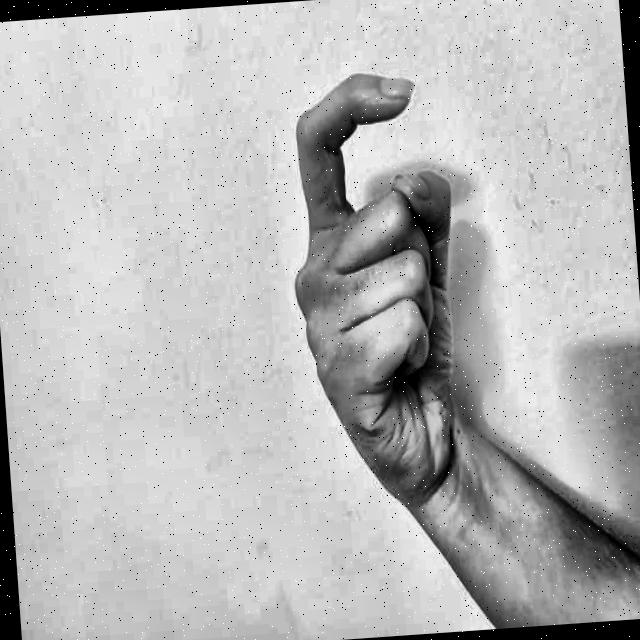E: (250, 22, 542, 510)
